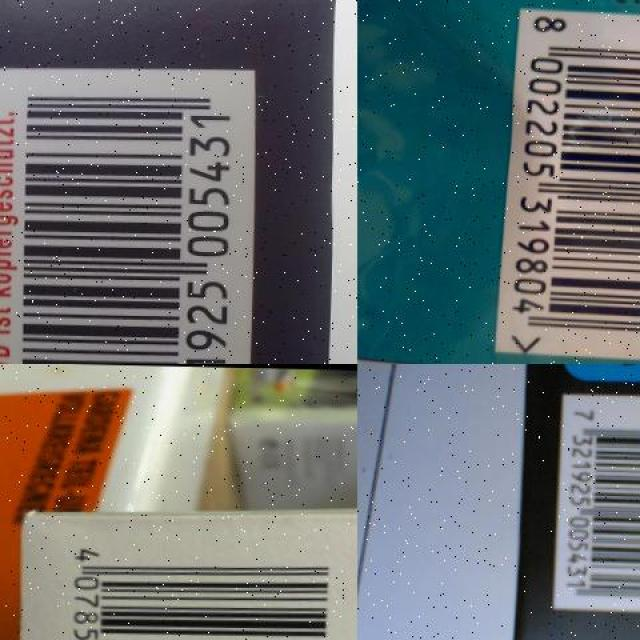Barcode: (0, 61, 259, 364), (496, 4, 640, 364), (48, 530, 352, 640), (560, 393, 640, 612)
